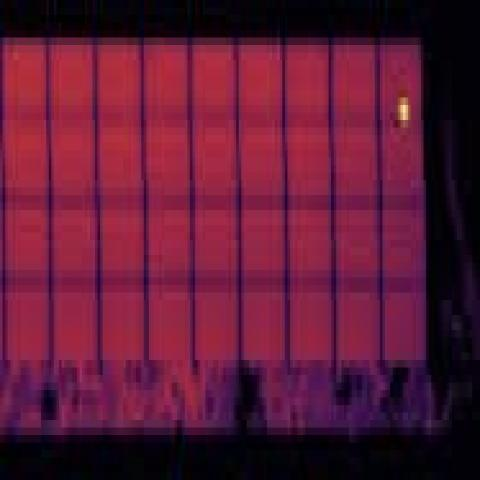fault: (398, 99, 411, 121)
